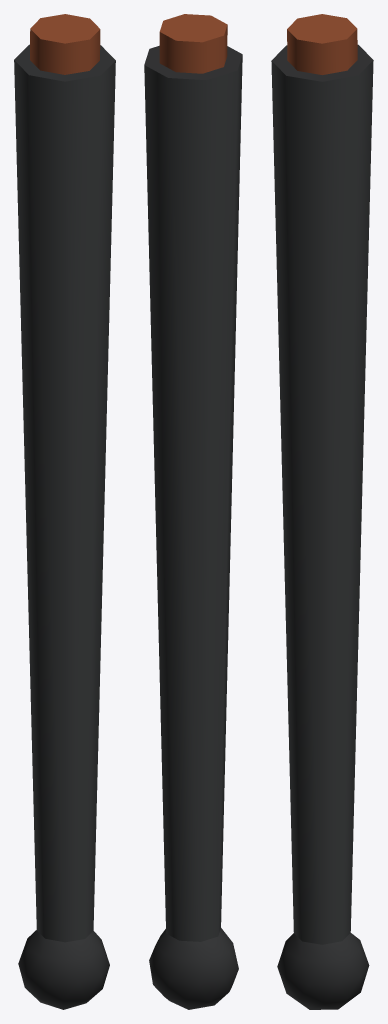
The model's file is Spike.fbx.
The picture shows the model from 3 angles, left to right: view 1: azimuth 90°, elevation 25°; view 2: azimuth 150°, elevation 25°; view 3: azimuth 270°, elevation 25°; orthographic projection.
Parts seen in each view (by area): view 1: Shock Prong.L.001; view 2: Shock Prong.L.001; view 3: Shock Prong.L.001.
Part boxes in pixels (<box>): Shock Prong.L.001: <box>14,14,115,1009</box>; Shock Prong.L.001: <box>144,14,242,1009</box>; Shock Prong.L.001: <box>271,14,373,1009</box>.
Bounding box in the file's own units: 79 × 837 × 79.
